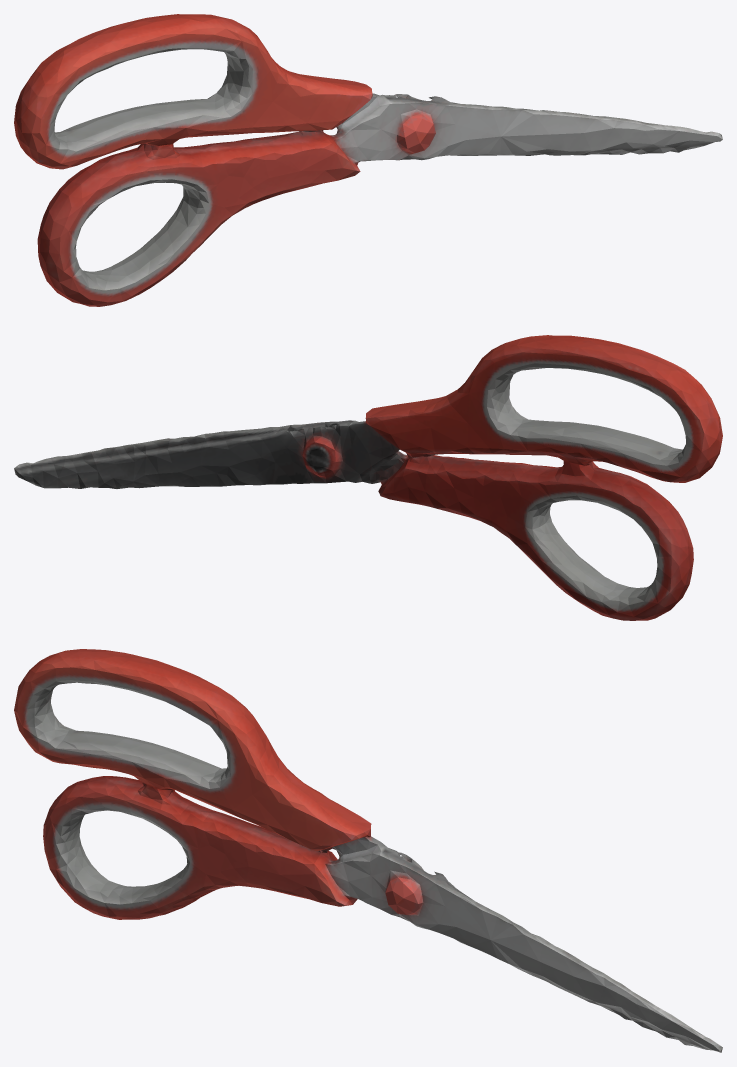
The picture shows the model from 3 angles, top to bottom: view 1: azimuth 30°, elevation 25°; view 2: azimuth 150°, elevation 25°; view 3: azimuth 330°, elevation 25°; orthographic projection. The views are drawn at different scales.
Size of the model in its own units: 0.2085 by 0.0764 by 0.0146.
Materials: 1 (1 with a texture image).
